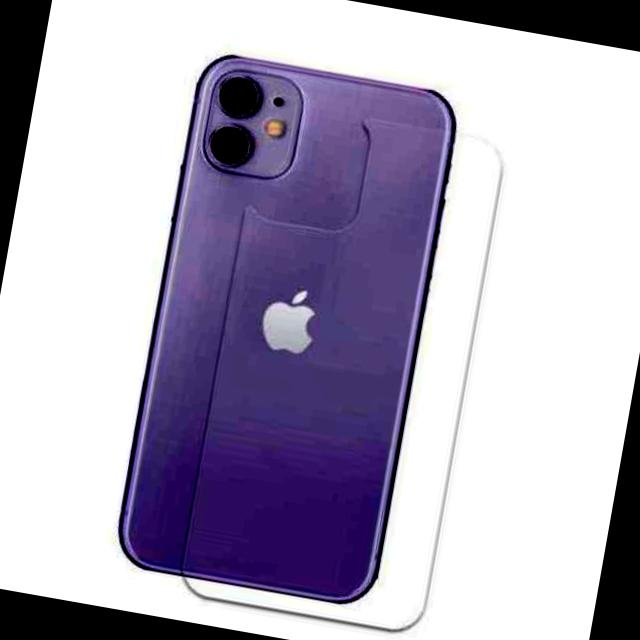lens_back: (200, 119, 256, 174), (208, 72, 266, 124)
phone: (104, 41, 468, 616)
